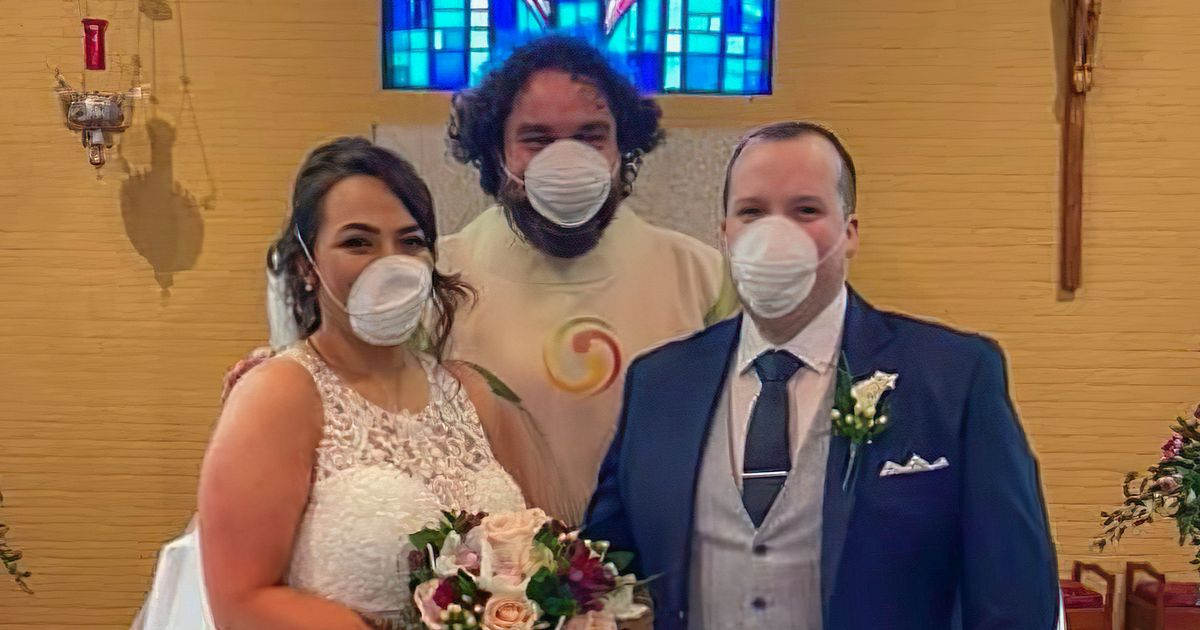n95: (717, 212, 819, 322), (346, 255, 442, 352), (519, 138, 621, 228)
